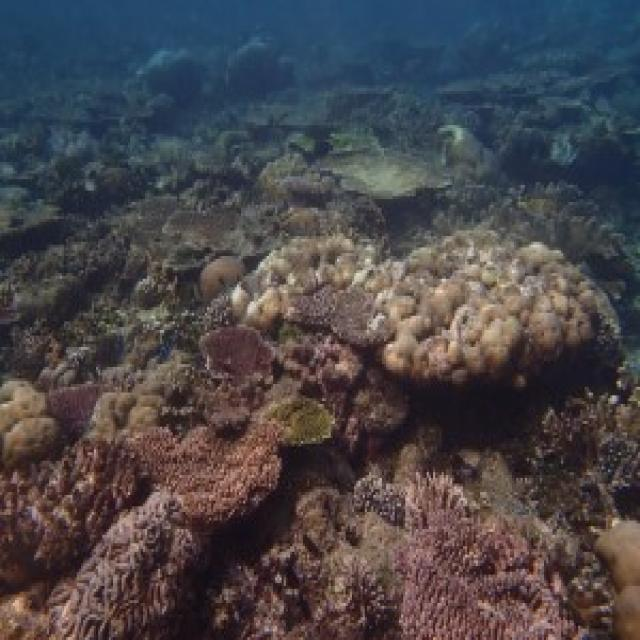Healthy: (229, 234, 605, 436), (370, 246, 596, 385), (394, 476, 579, 638), (522, 391, 639, 638), (212, 490, 400, 638), (48, 325, 276, 439), (52, 493, 202, 638), (5, 442, 142, 584), (131, 425, 283, 524), (3, 382, 59, 462), (48, 391, 167, 428), (263, 396, 336, 445)
